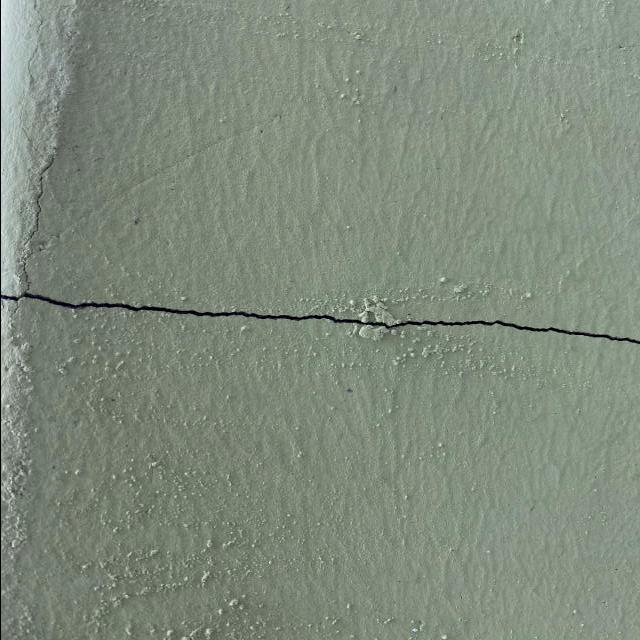SurfaceCrack: (1, 252, 640, 382)
